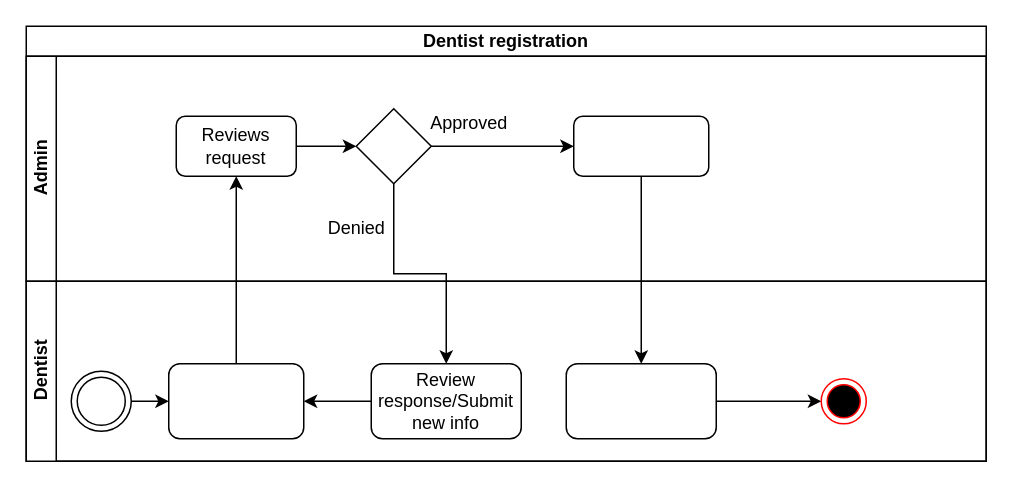
Some shapes in this 1013 by 488 pixel diagram are drawn without their labels. Here are the shapes that lost their labels. From the top down, the centre of each, then its label:
At point (640, 145): "Dentist account is added".
At point (235, 400): "Submits Registration request".
At point (640, 400): "Manages new account details".
